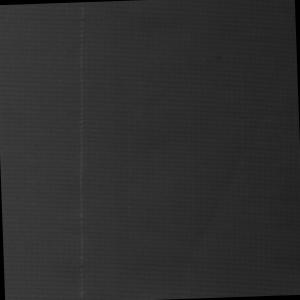Wrinkle: (102, 34, 286, 300)
